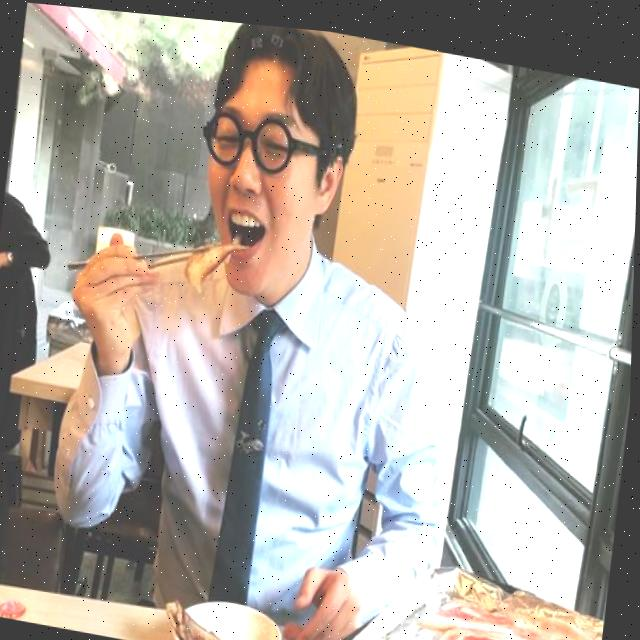eating-person: (8, 2, 506, 640)
